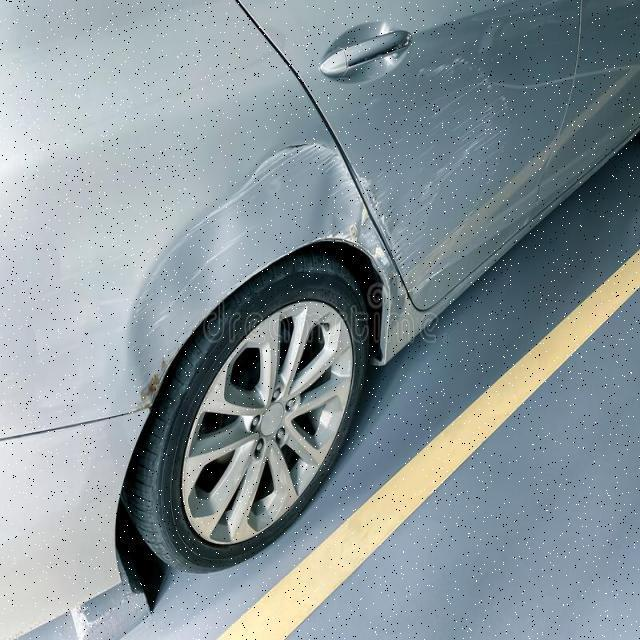doorouter-dent: (326, 0, 536, 255)
quaterpanel-dent: (10, 61, 326, 410)
